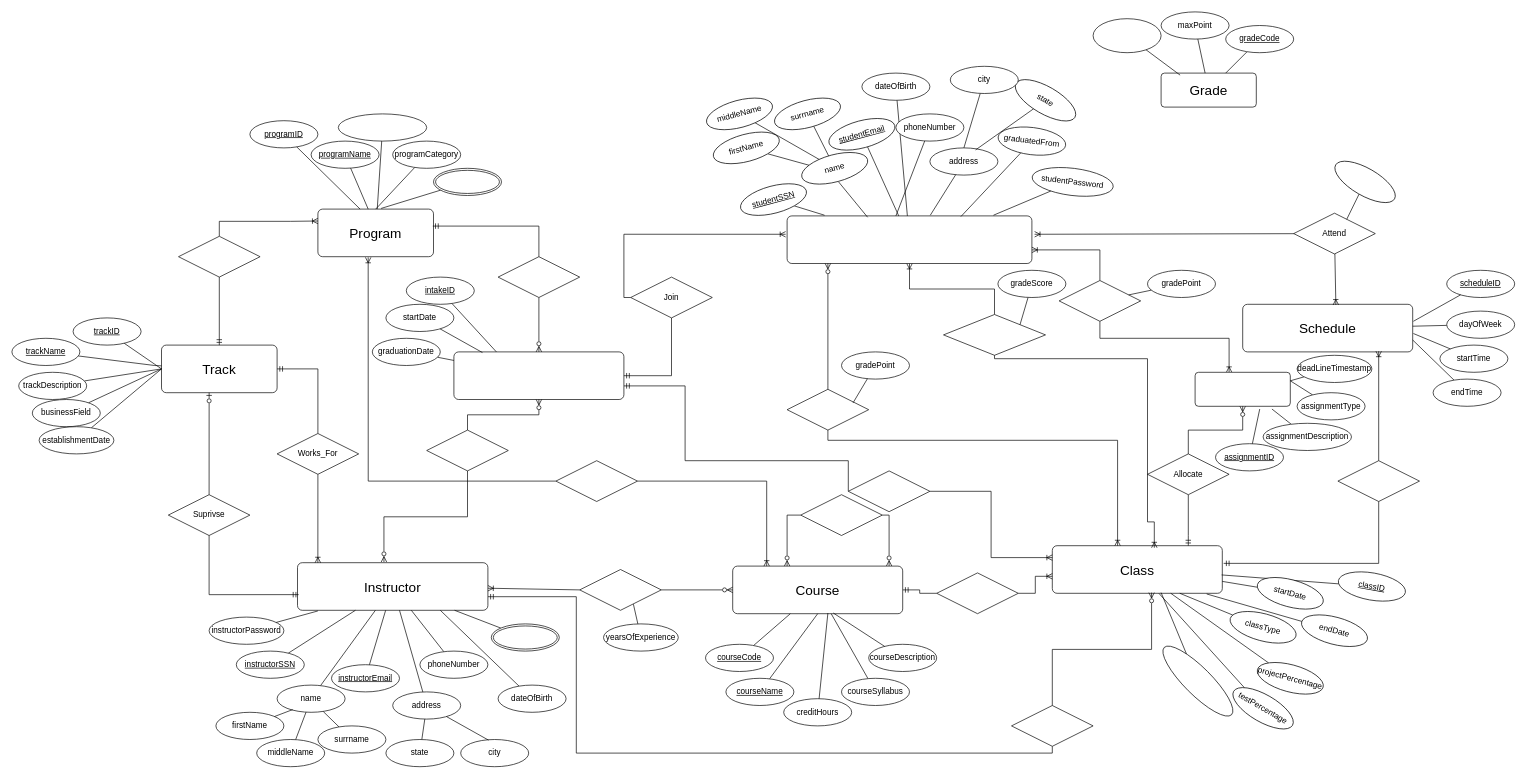
The diagram is 1527 pixels wide and 779 high, and some of its shapes have lost their labels. Here are the shapes that lost their labels. From the top down, the centre of each, then its label:
At point (1126, 35): "minPoint".
At point (382, 127): "programDescription".
At point (467, 182): "jobProfiles".
At point (1364, 181): "attendanceStatus".
At point (219, 256): "Contain".
At point (909, 239): "Student".
At point (538, 277): "Has".
At point (1099, 300): "Submit".
At point (994, 334): "student_grade_histroy".
At point (538, 375): "Intake".
At point (1242, 389): "Assignment".
At point (827, 409): "Test_Evaluate".
At point (467, 450): "graduate_From".
At point (596, 481): "Contains".
At point (889, 491): "Initiate".
At point (1378, 481): "Establish".
At point (841, 515): "Prerequisite".
At point (620, 589): "Experienced_In".
At point (977, 593): "Assign".
At point (525, 637): "qualifications".
At point (1197, 681): "assignmentPercentage".
At point (1052, 725): "Teach_In".
